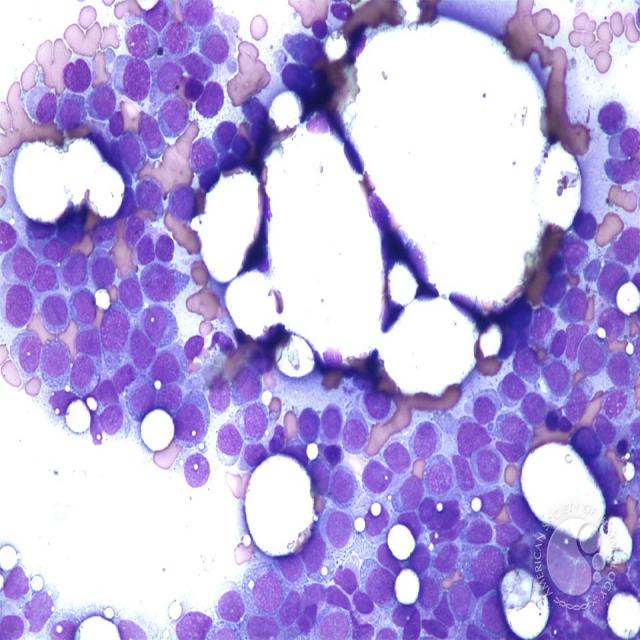ALL Negative Cells: (140, 305, 178, 353), (39, 289, 70, 338), (100, 311, 132, 351)
ALL Positive Cell: (418, 497, 465, 531), (542, 360, 574, 400), (363, 458, 392, 498), (561, 284, 590, 324), (458, 423, 490, 457), (598, 99, 626, 136), (298, 406, 324, 444), (319, 404, 343, 445), (476, 389, 502, 426), (276, 590, 300, 626), (65, 64, 90, 95), (516, 347, 540, 379), (481, 486, 506, 516), (502, 375, 526, 405), (337, 566, 361, 594), (555, 332, 567, 356)
